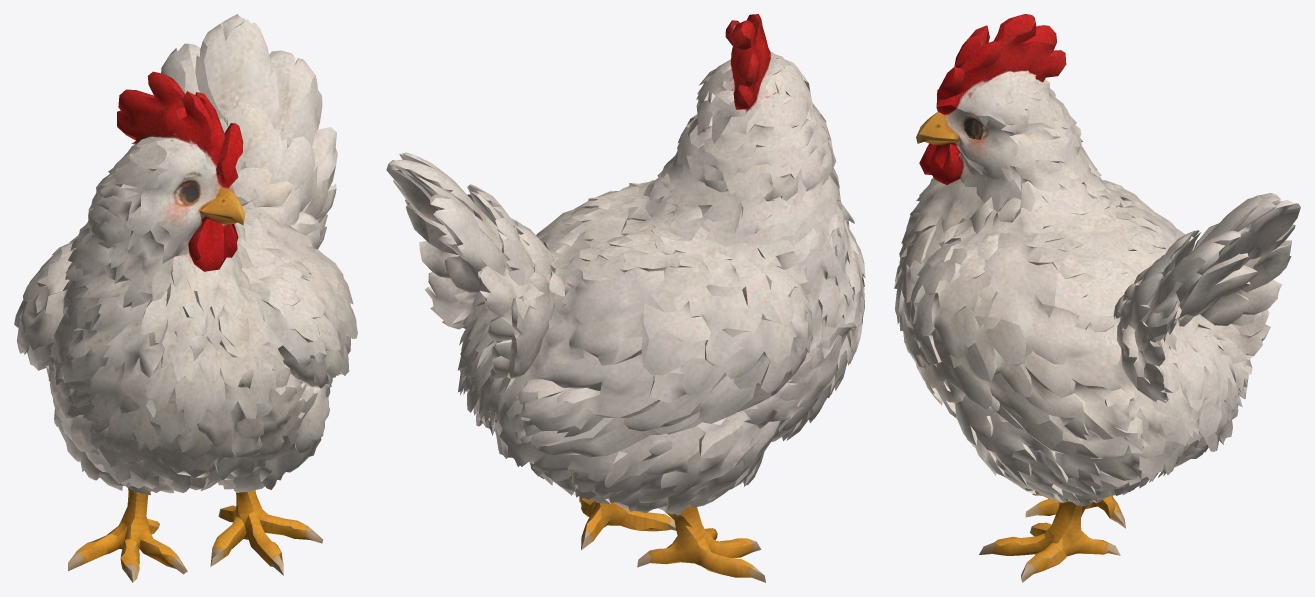
Rendered from chicken_lite.glb.
3 views of the same model, side by side, from view 1: azimuth 30°, elevation 25°; view 2: azimuth 150°, elevation 25°; view 3: azimuth 270°, elevation 25° (orthographic). The views are drawn at different scales.
Visible parts, largest first — view 1: geometry_0; view 2: geometry_0; view 3: geometry_0.
Boxes of the visible parts, bbox=[...] form: geometry_0: bbox=[14, 14, 357, 582]; geometry_0: bbox=[386, 14, 865, 582]; geometry_0: bbox=[894, 14, 1300, 582].
Bounding box in the file's own units: 1.4 × 1.9 × 1.42.
Materials: 1 (1 with a texture image).
